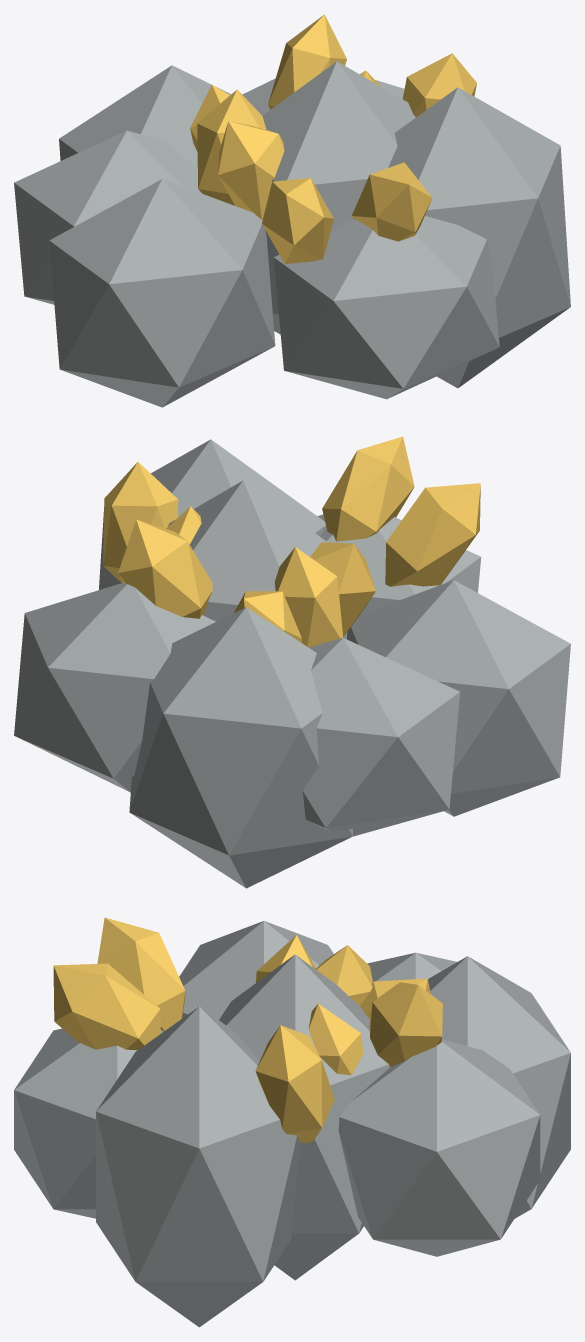
File: gold.glb
The picture shows the model from 3 angles, top to bottom: view 1: azimuth 30°, elevation 25°; view 2: azimuth 150°, elevation 25°; view 3: azimuth 270°, elevation 25°; orthographic projection. The views are drawn at different scales.
Parts seen in each view (by area): view 1: gold; view 2: gold; view 3: gold.
Boxes of the visible parts, box(x1,y1,x2,y2) form: gold: box(14, 14, 570, 407); gold: box(14, 436, 570, 888); gold: box(14, 917, 570, 1327).
Bounding box in the file's own units: 2.34 × 1.49 × 2.25.
